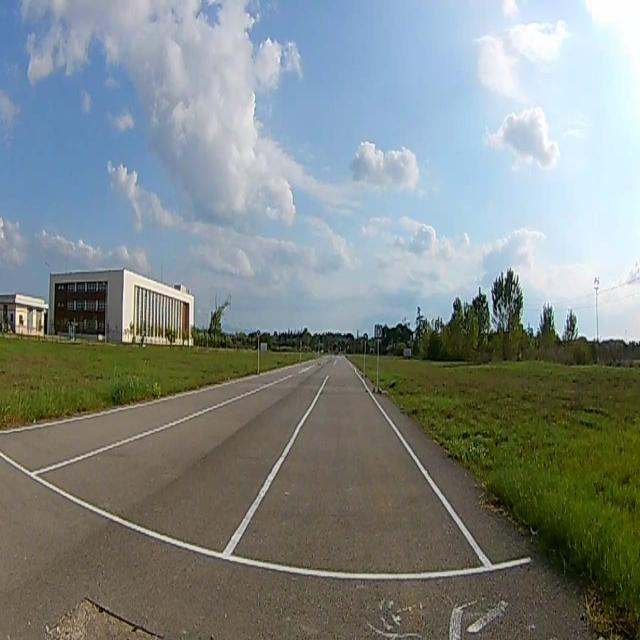durak: (375, 325, 383, 339)
